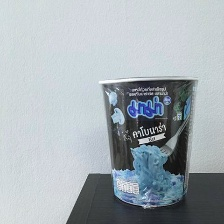paper_cup: (94, 71, 203, 210)
